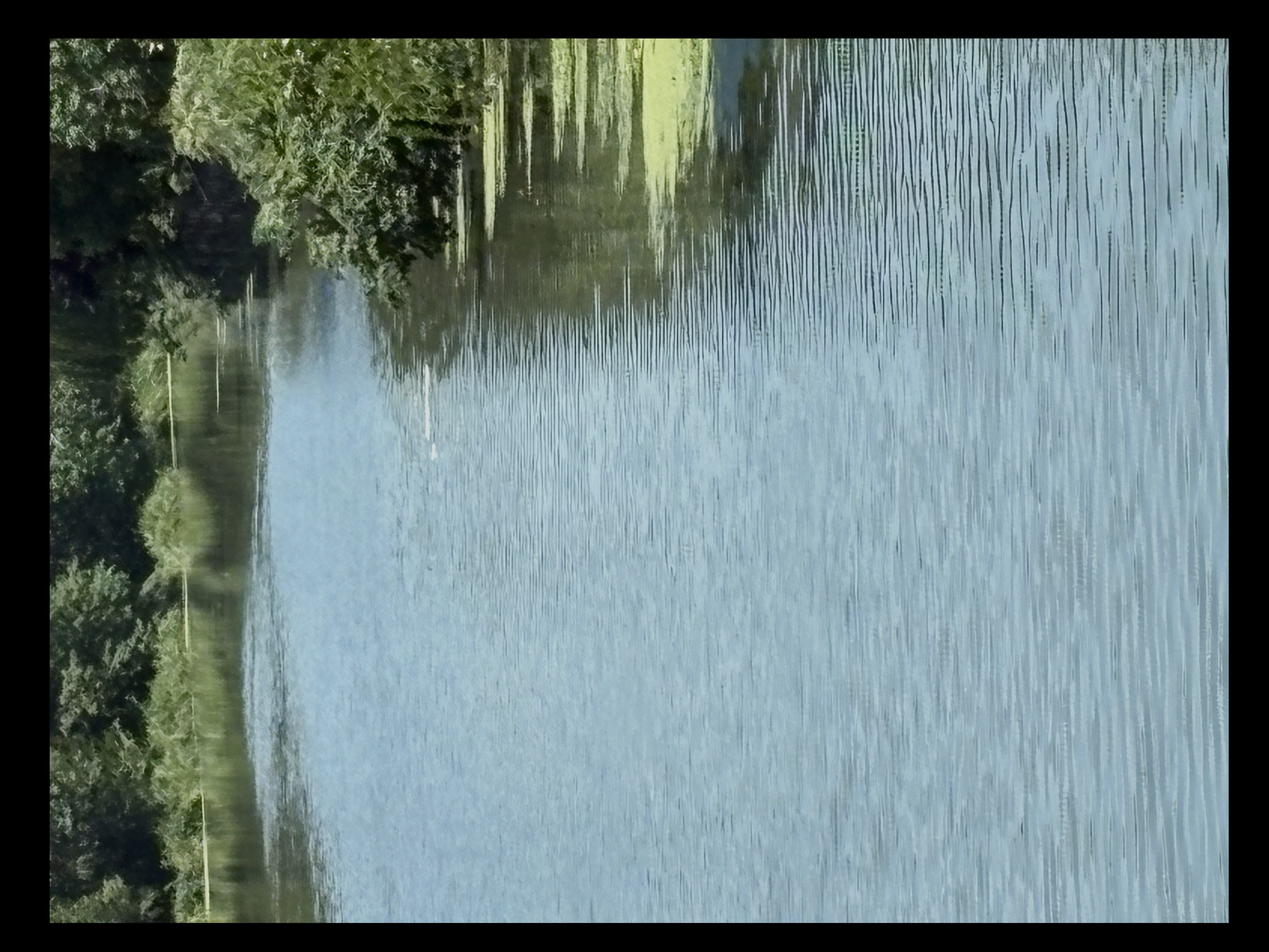Other: (651, 32, 723, 166), (606, 29, 648, 156), (496, 101, 526, 224), (564, 31, 598, 138)
Plastic wastes: (435, 354, 453, 428)
